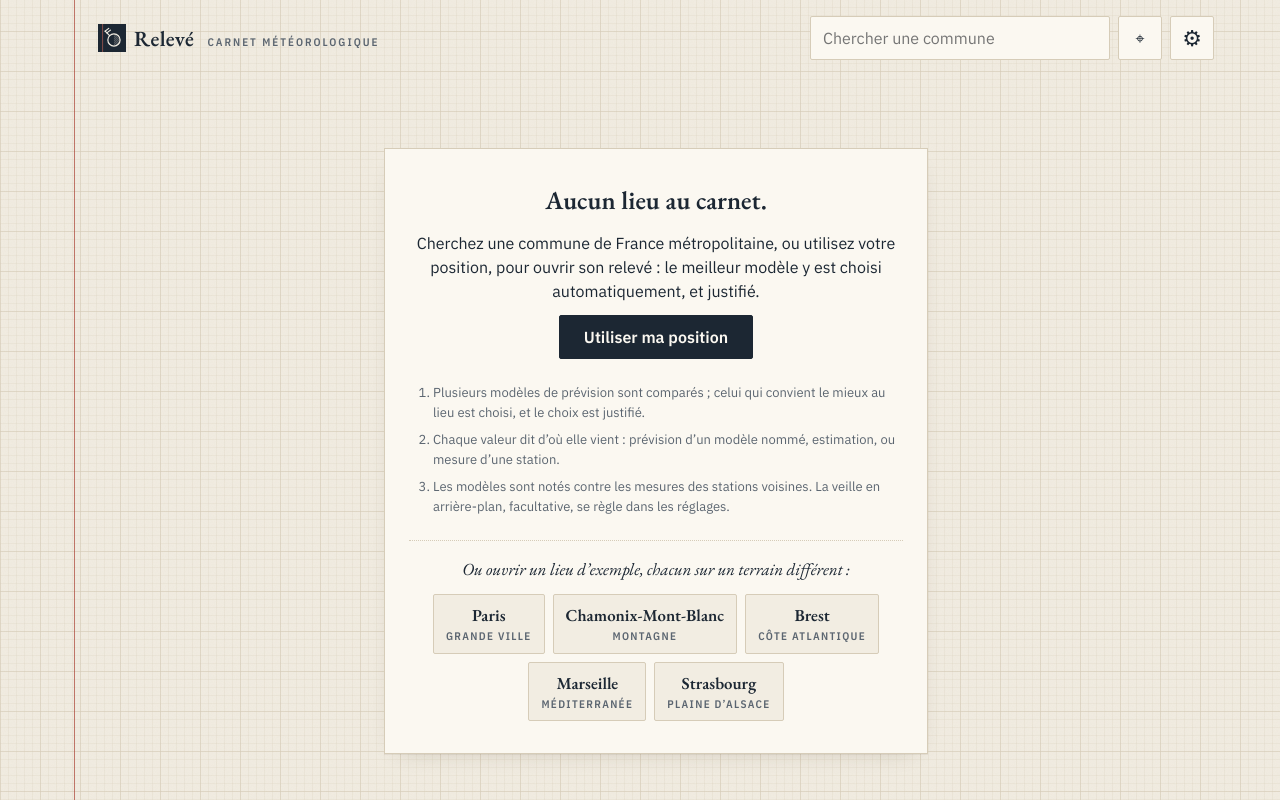
Test: App › affiche un etat d'erreur avec une action de reprise quand la prevision echoue
Type "Lyon" into the search field labelled "Chercher une commune".
click(960, 38); type("Lyon")  # box [810,16,1110,60]
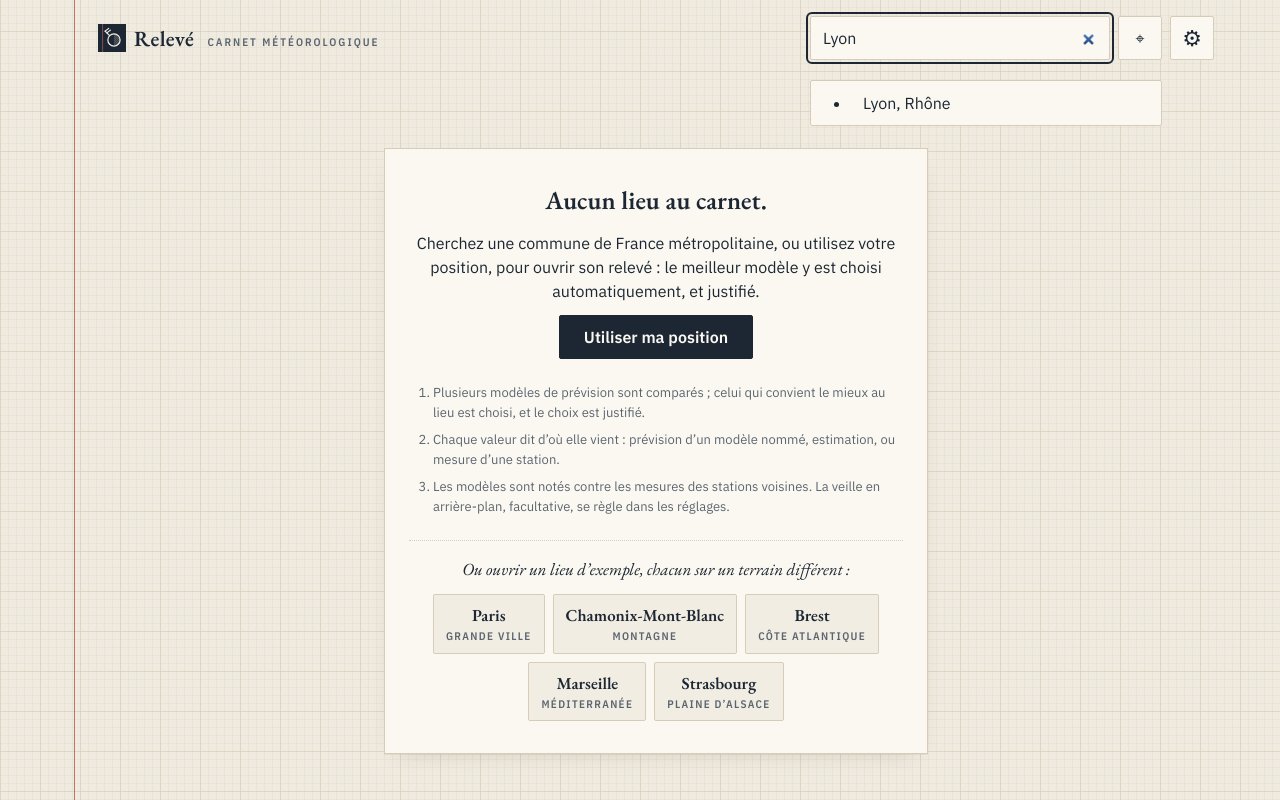
Click the button "Lyon, Rhône".
click(880, 103)  # box [851,81,1161,125]
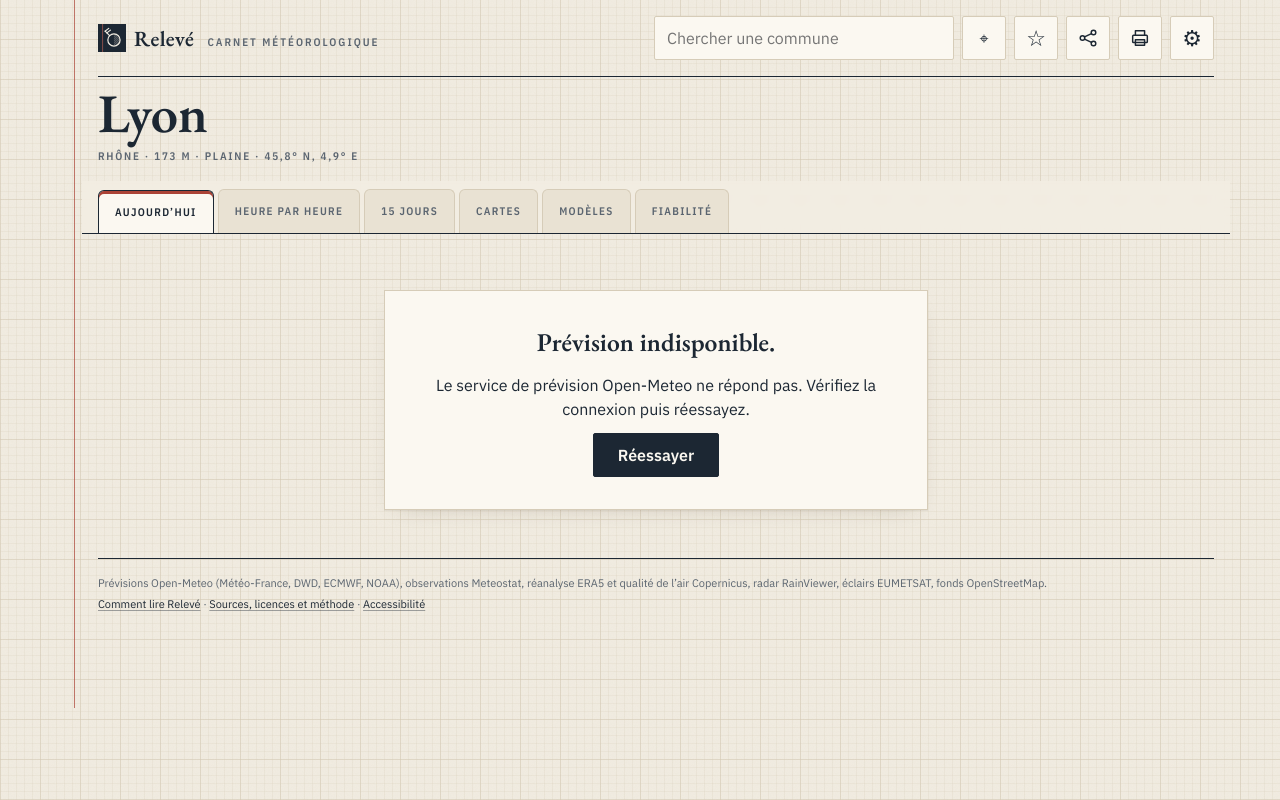
Expected: the text "Prévision indisponible." is shown, [537,325,775,359]
Expected: the button "Réessayer" is shown, [593,433,719,477]
